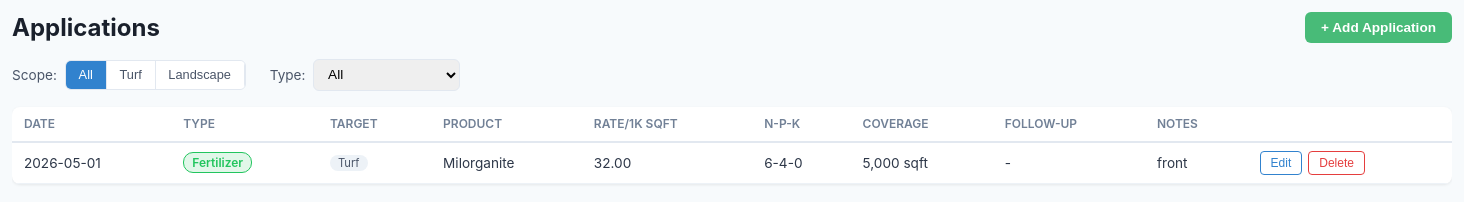
Test: Applications list › asks before deleting and deletes only on yes
The image size is (1464, 202).
Click the button "Delete" at (1337, 163), box left=1308, top=151, right=1365, bottom=175
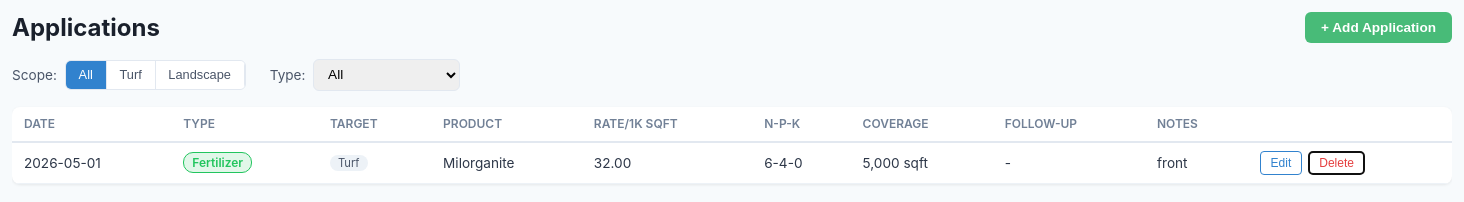
Click the button "Delete" at (1337, 163), box left=1308, top=151, right=1365, bottom=175
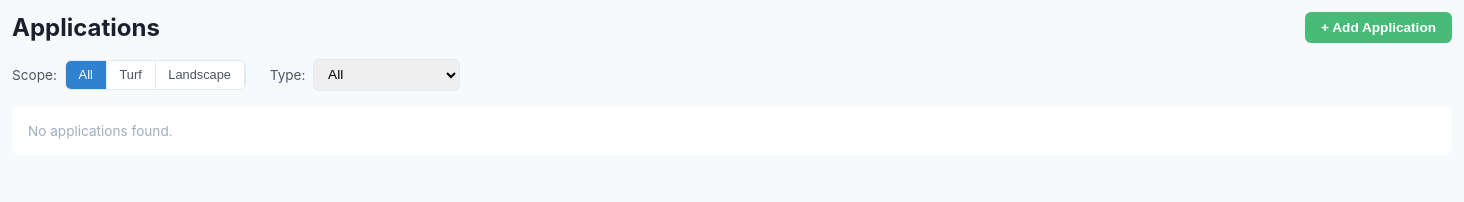
Expected: the text "No applications found." is shown, left=12, top=107, right=1452, bottom=155
